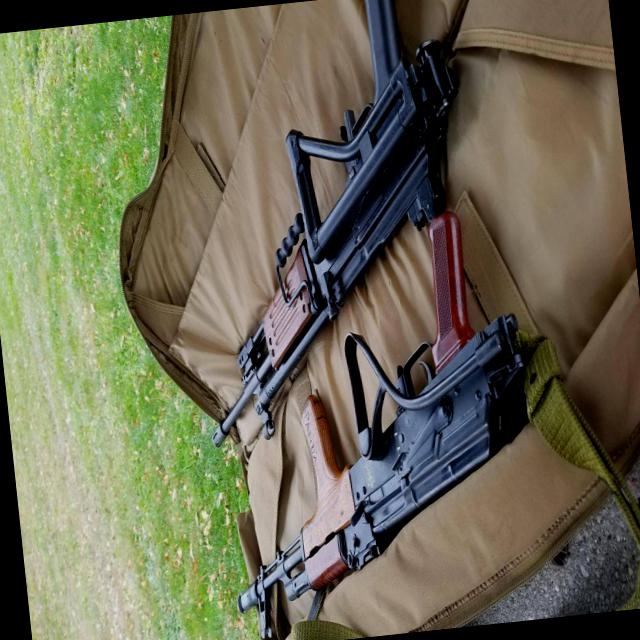long weapon: (220, 194, 580, 640), (168, 0, 495, 485)
